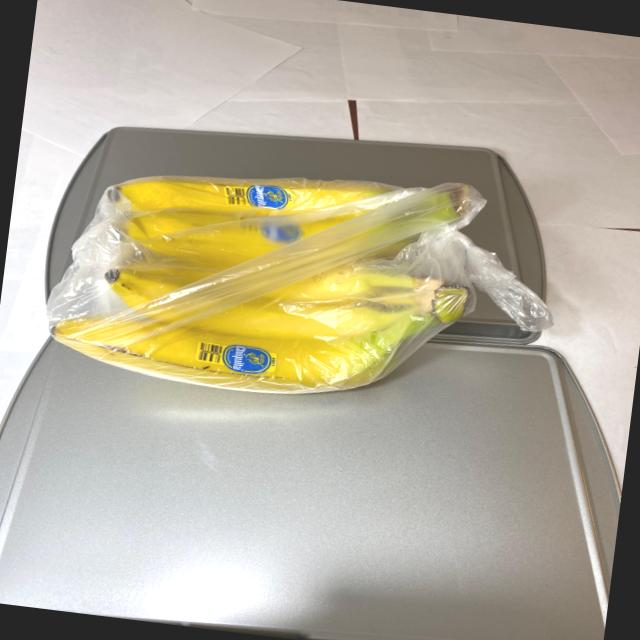banana: (29, 124, 505, 428)
